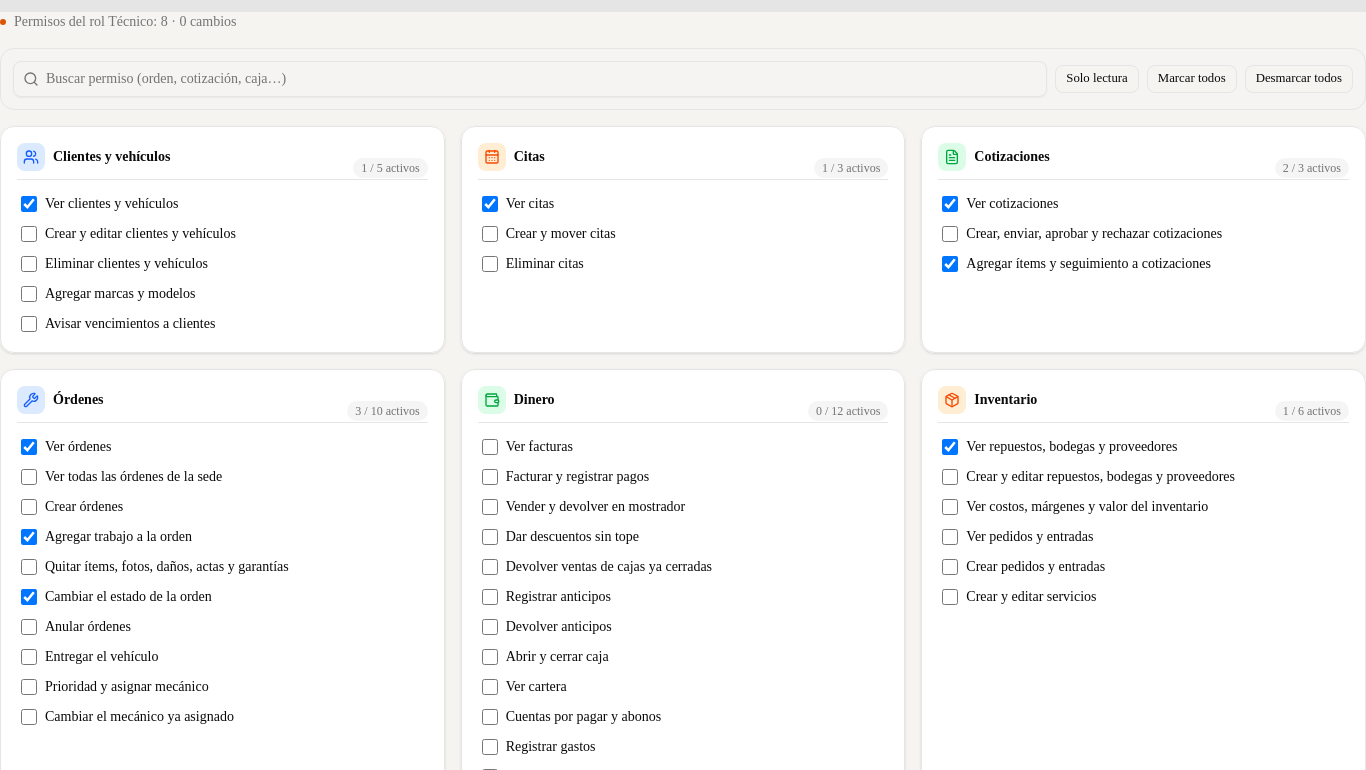
Test case: PermisosUsuario › al desmarcar un permiso del rol aparece Quitado
The width and height of the screenshot is (1366, 770).
Expected: the text "Quitado" is not shown
Step 1. Click the checkbox labelled "Cambiar el estado de la orden" → (29, 597), box [21,589,37,605]
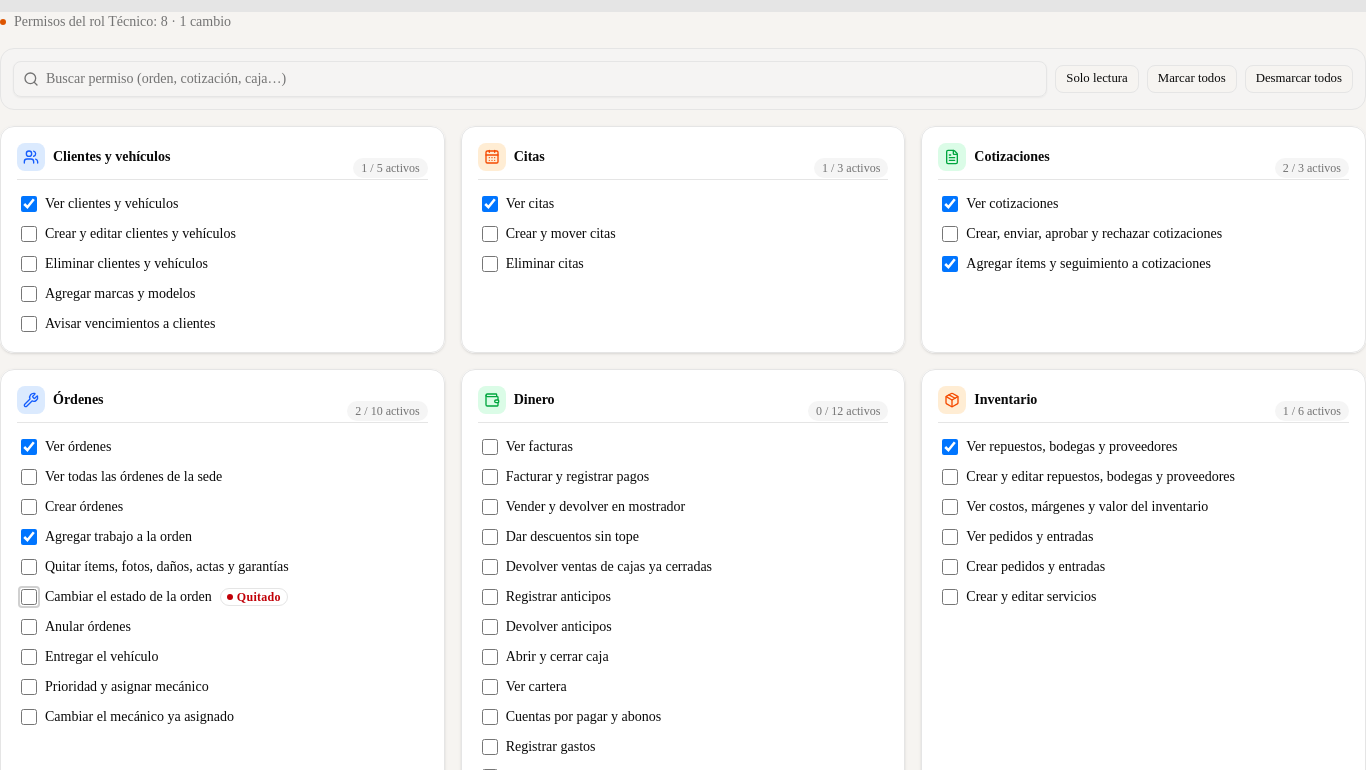
Result: the text "Quitado" is shown at [220,588,288,606]
